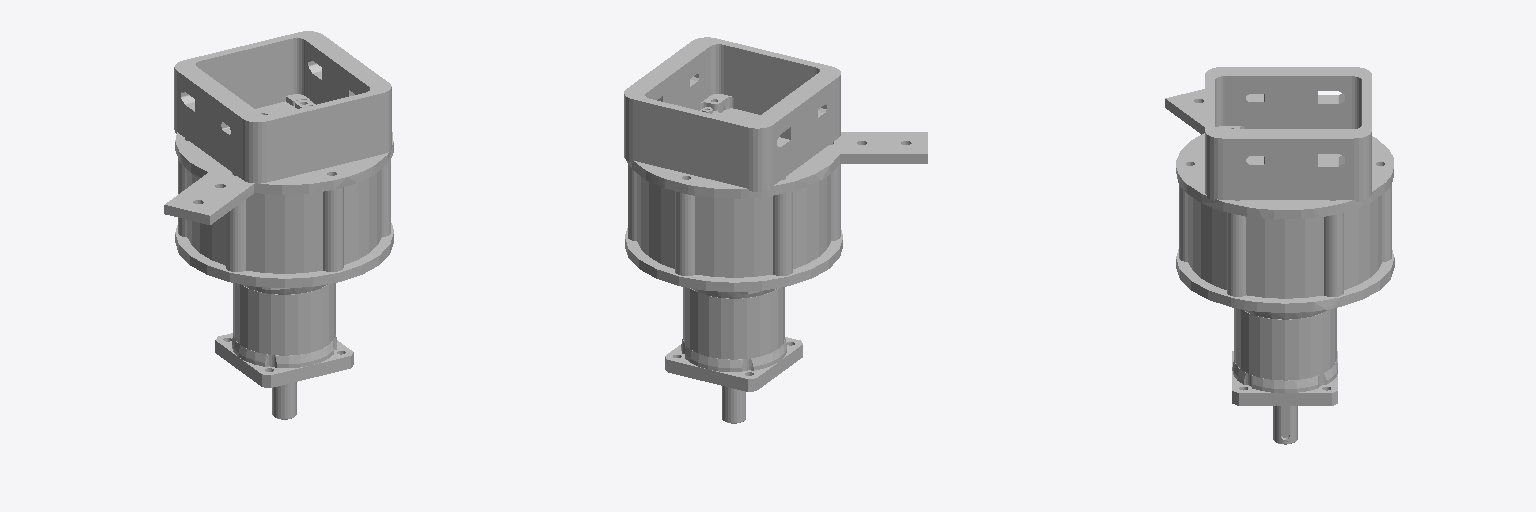
File: drivetrainbackleftcomposite.obj
The picture shows the model from 3 angles: view 1: azimuth 30°, elevation 25°; view 2: azimuth 150°, elevation 25°; view 3: azimuth 270°, elevation 25°; orthographic projection.
Visible parts, largest first — view 1: obj_[number redacted]; view 2: obj_[number redacted]; view 3: obj_[number redacted].
Boxes of the visible parts, <box> form: obj_[number redacted]: <box>164,31,393,419</box>; obj_[number redacted]: <box>624,37,927,423</box>; obj_[number redacted]: <box>1165,67,1394,444</box>.
Bounding box in the file's own units: 0.1649 × 0.2108 × 0.1301.